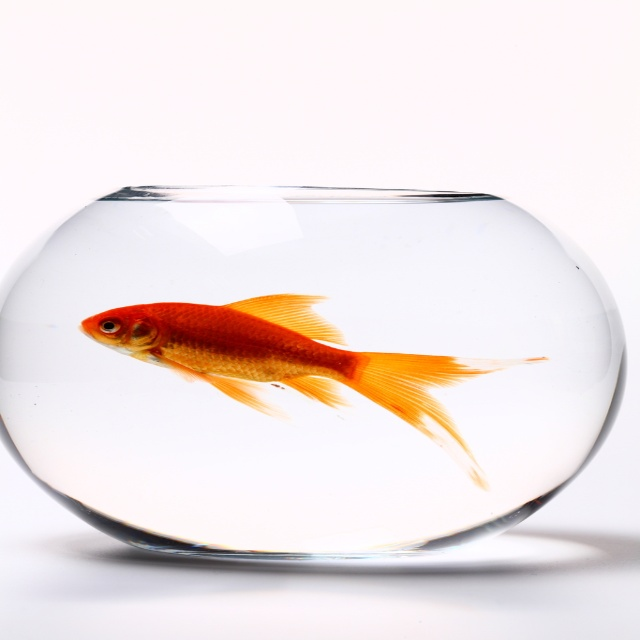Goldfish: (74, 286, 552, 481)
